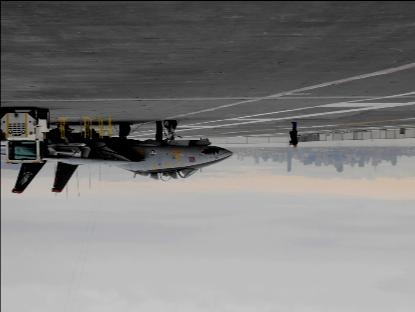EF2000: (1, 117, 237, 193)
